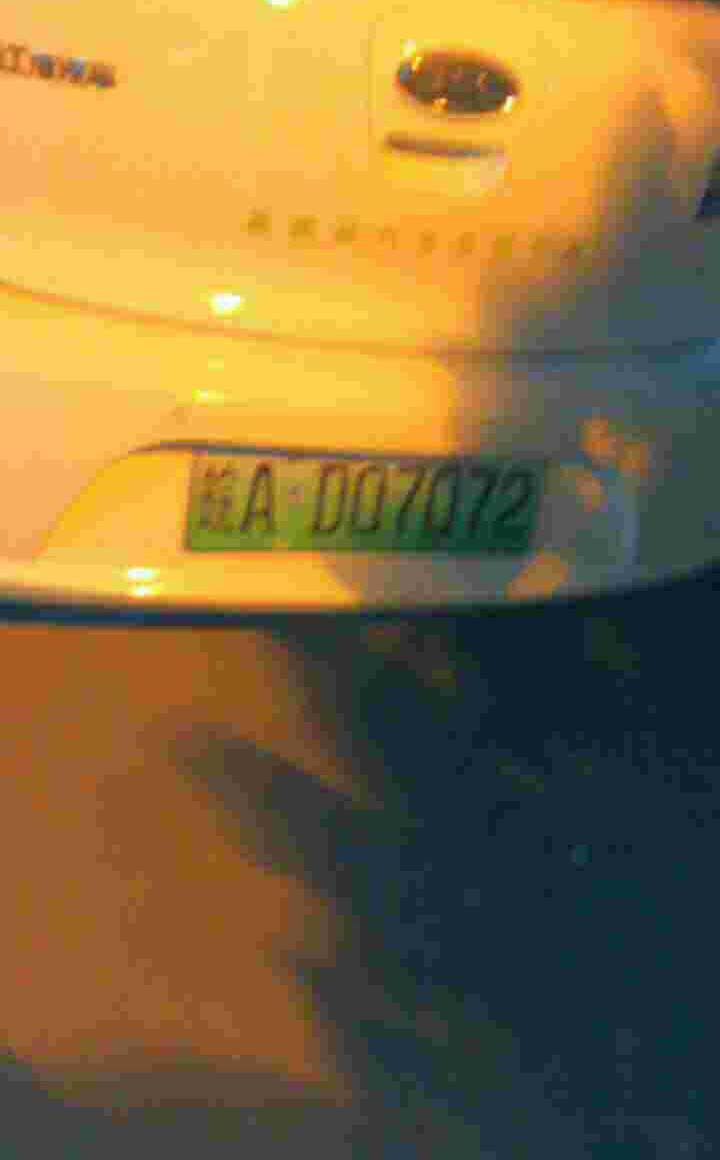car_id: (189, 453, 537, 548)
